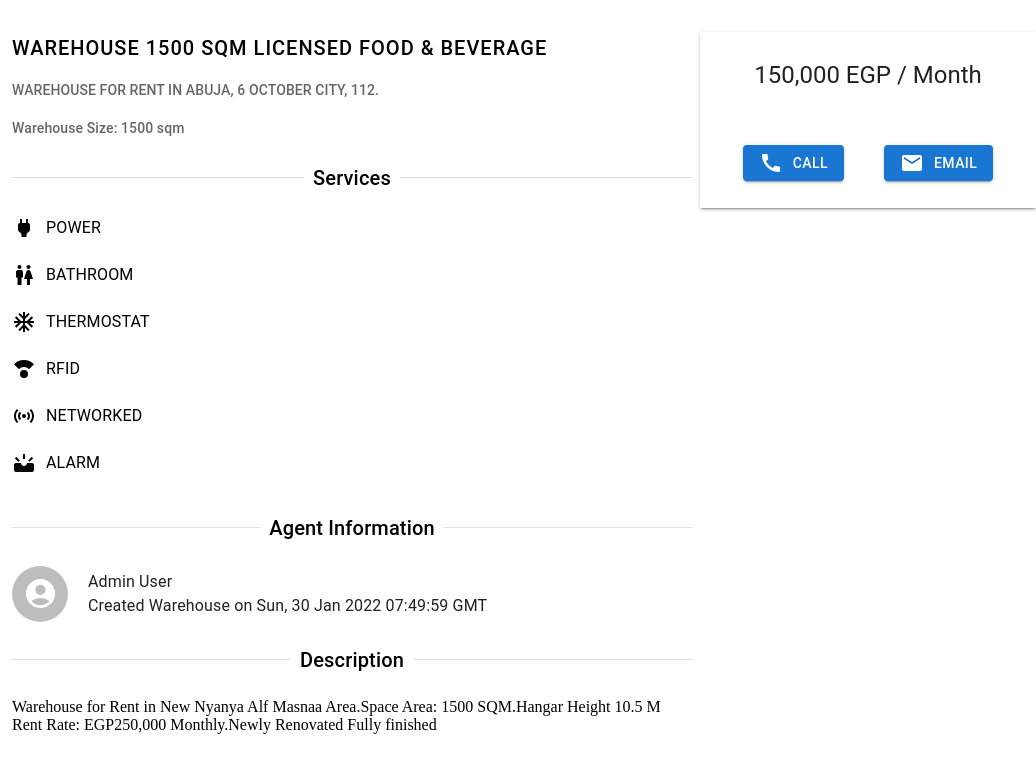
Test case: Description Component › should render email or phonenumber
Hover over the button "Call" at (793, 163), box [743, 145, 844, 181]
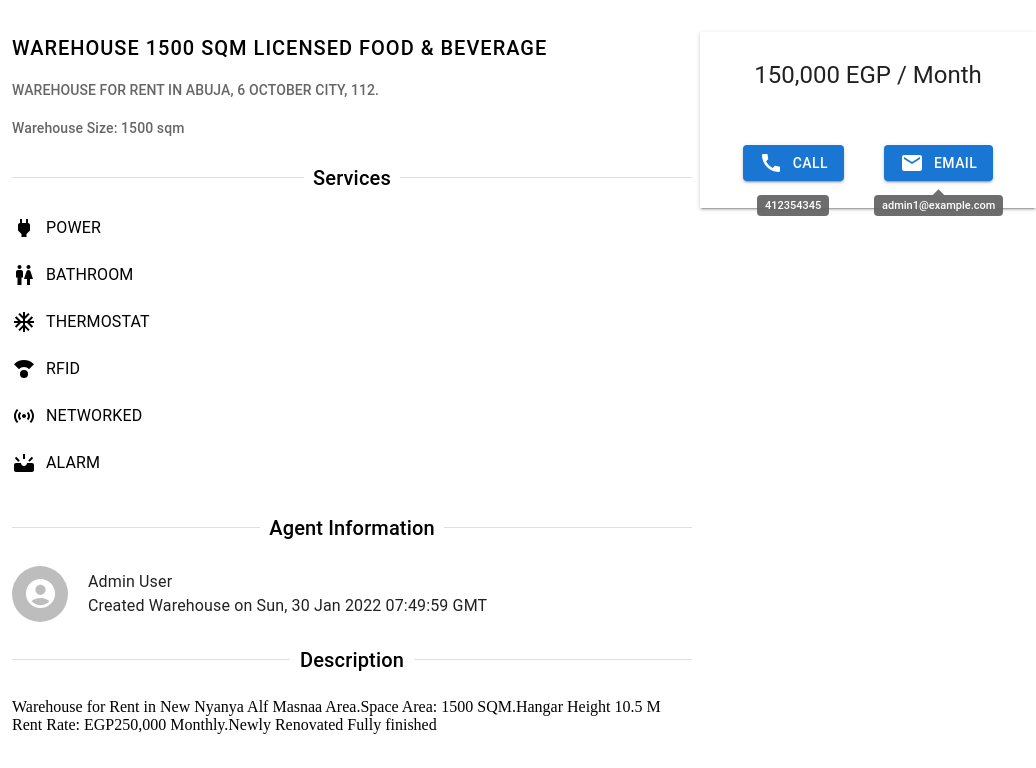
Check: the text "admin1@example.com" is shown, box [874, 195, 1003, 216]
Check: the text "412354345" is shown, box [757, 195, 829, 216]
